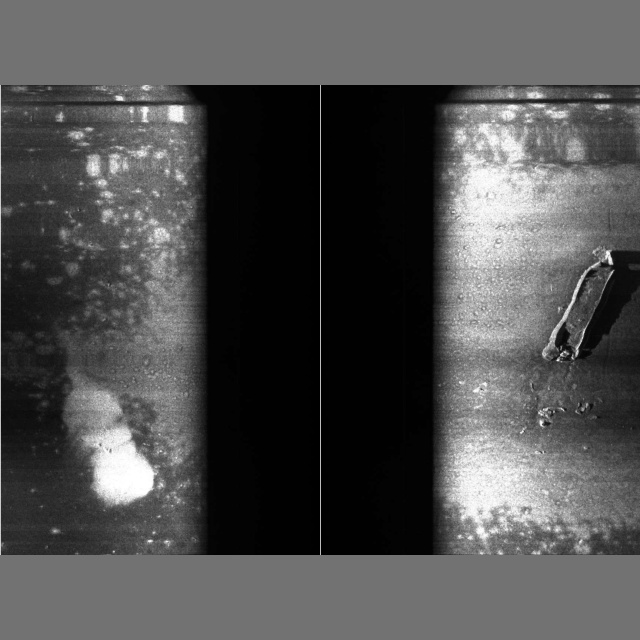Shipwreck: (472, 245, 633, 454)
